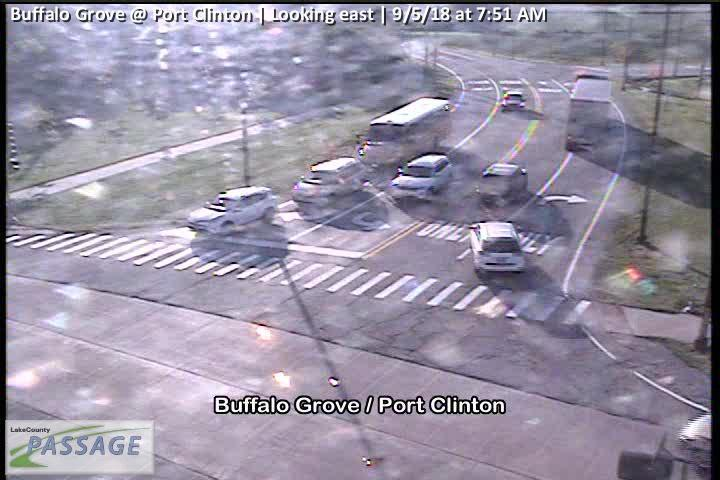SUV: (185, 184, 276, 233), (290, 158, 366, 208), (470, 220, 526, 275), (391, 153, 452, 203), (476, 162, 528, 205), (500, 92, 525, 110)
Truck: (355, 96, 455, 176), (561, 65, 613, 148)
